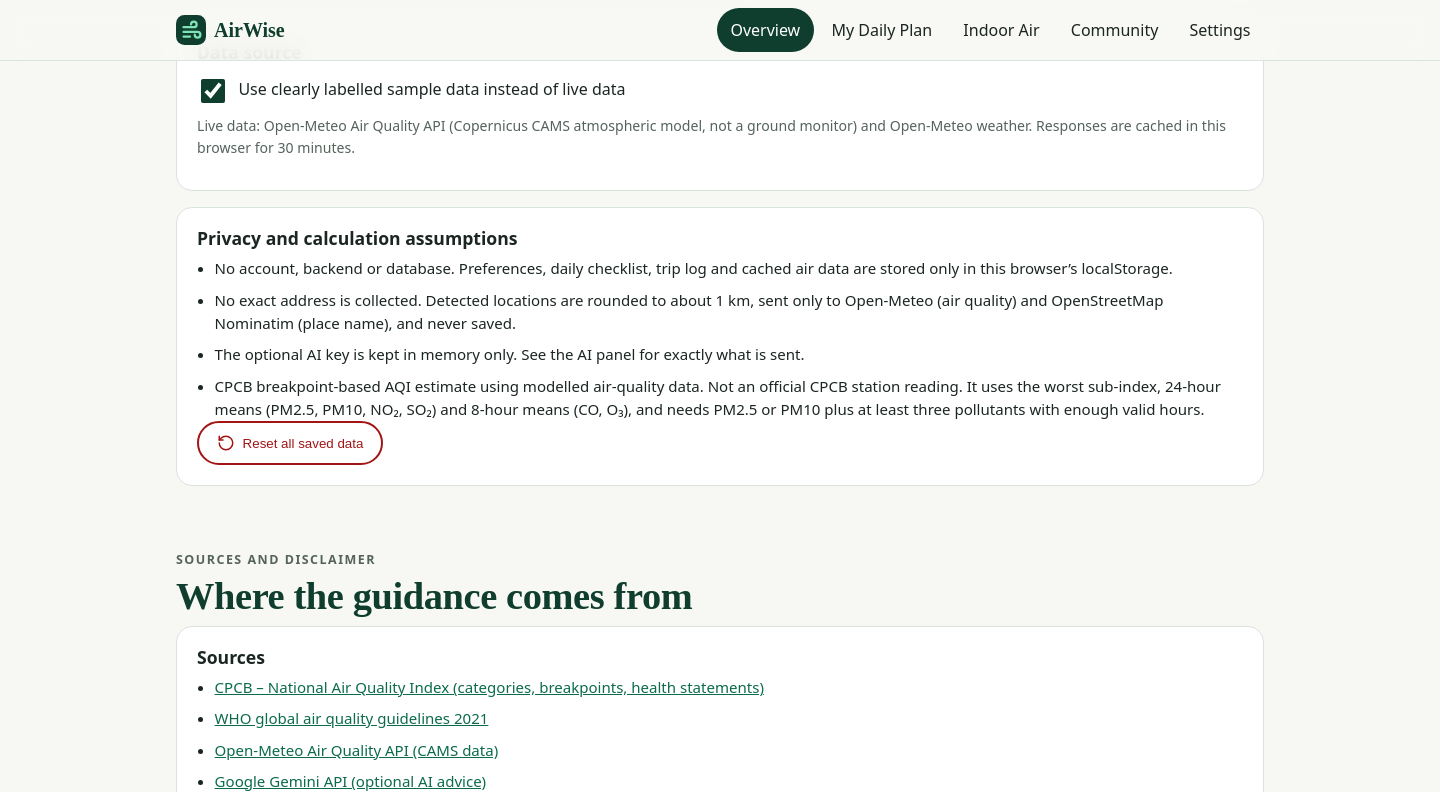
community and settings › resets all saved data after confirmation
The image size is (1440, 792).
(page scrolled)
Click the button "Reset all saved data". click: (290, 443)
box: x1=197 y1=421 x2=383 y2=465
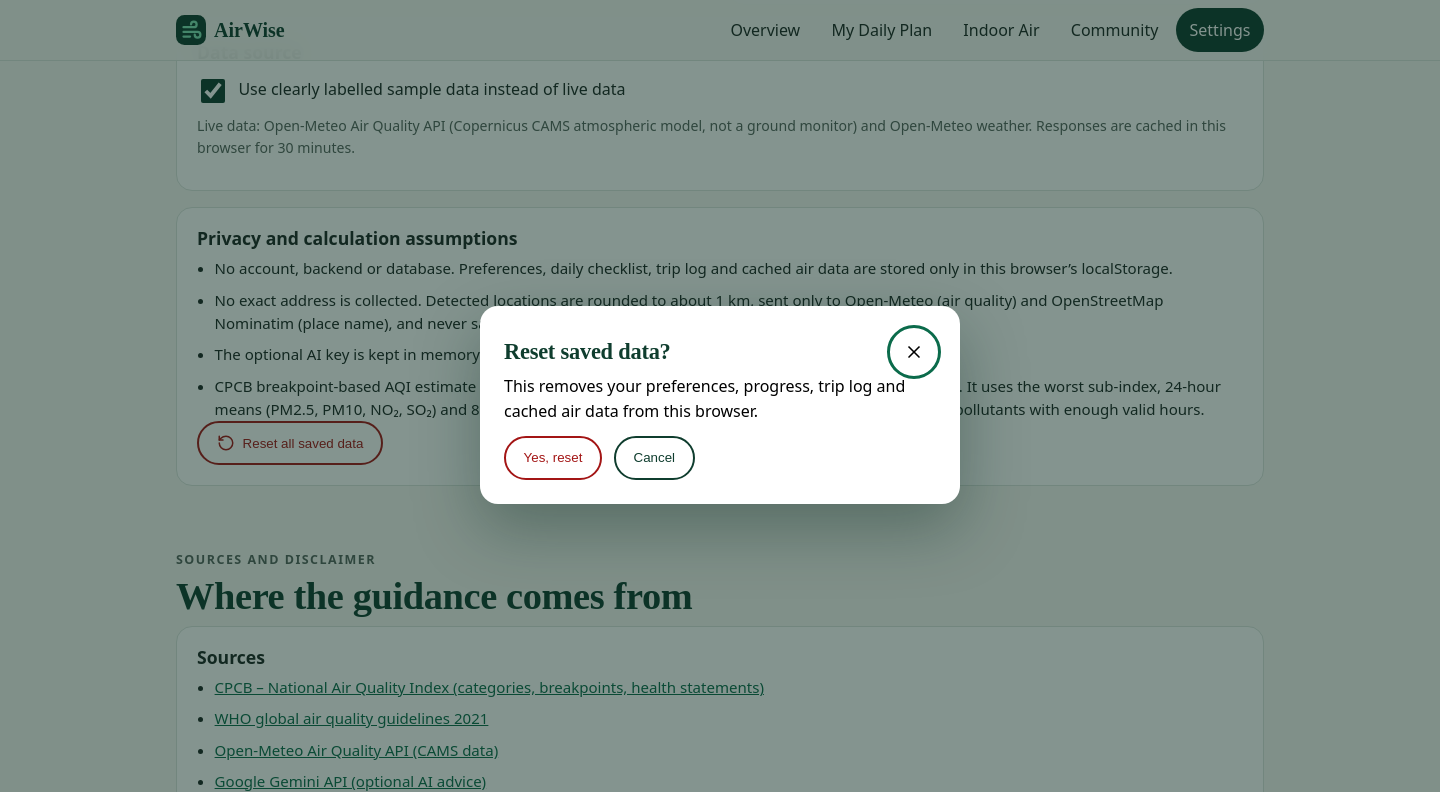
Click the button "Yes, reset". click: (553, 458)
box: x1=504 y1=436 x2=602 y2=480
(page scrolled)
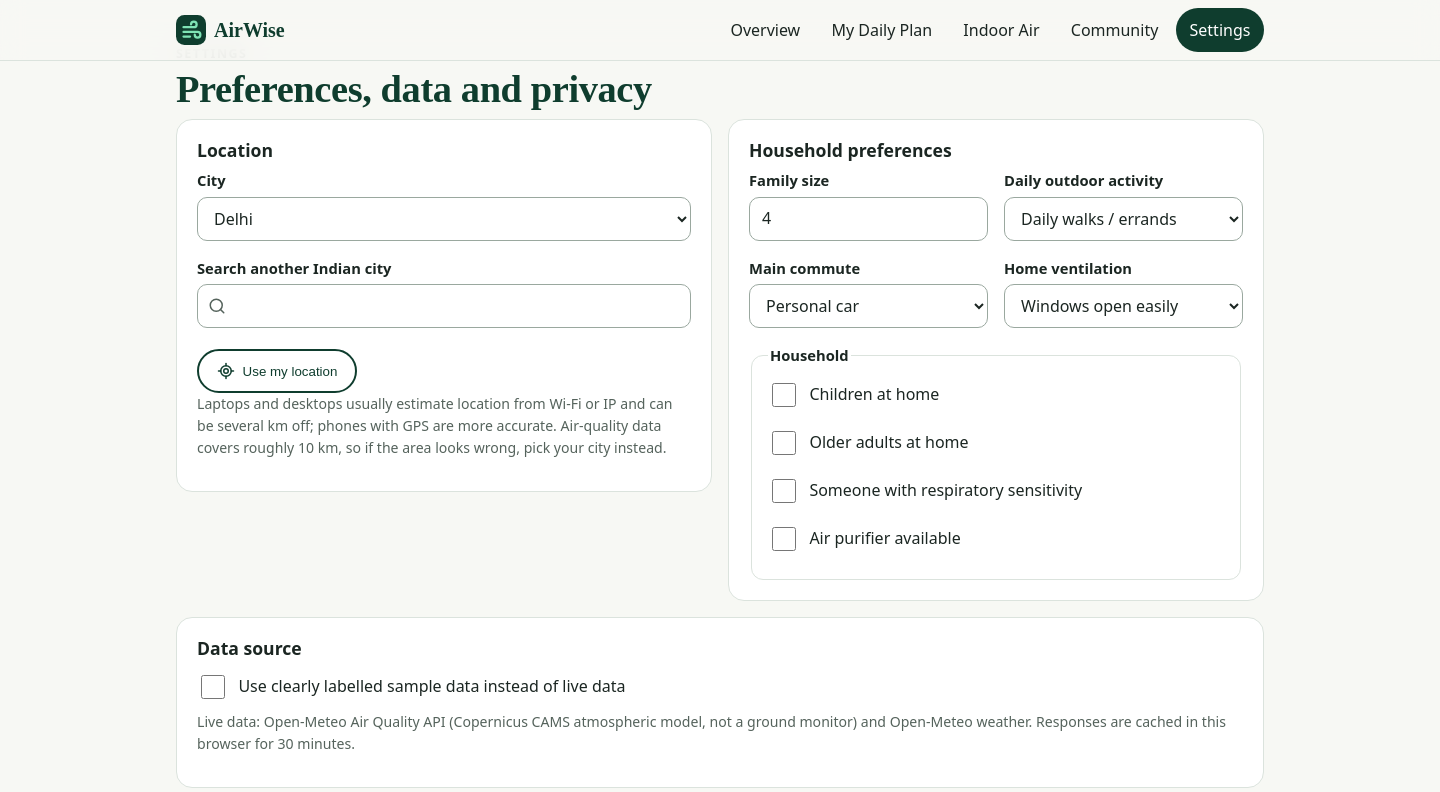
Expected: the checkbox labelled "Older adults at home" is not checked, x1=772 y1=431 x2=796 y2=455
